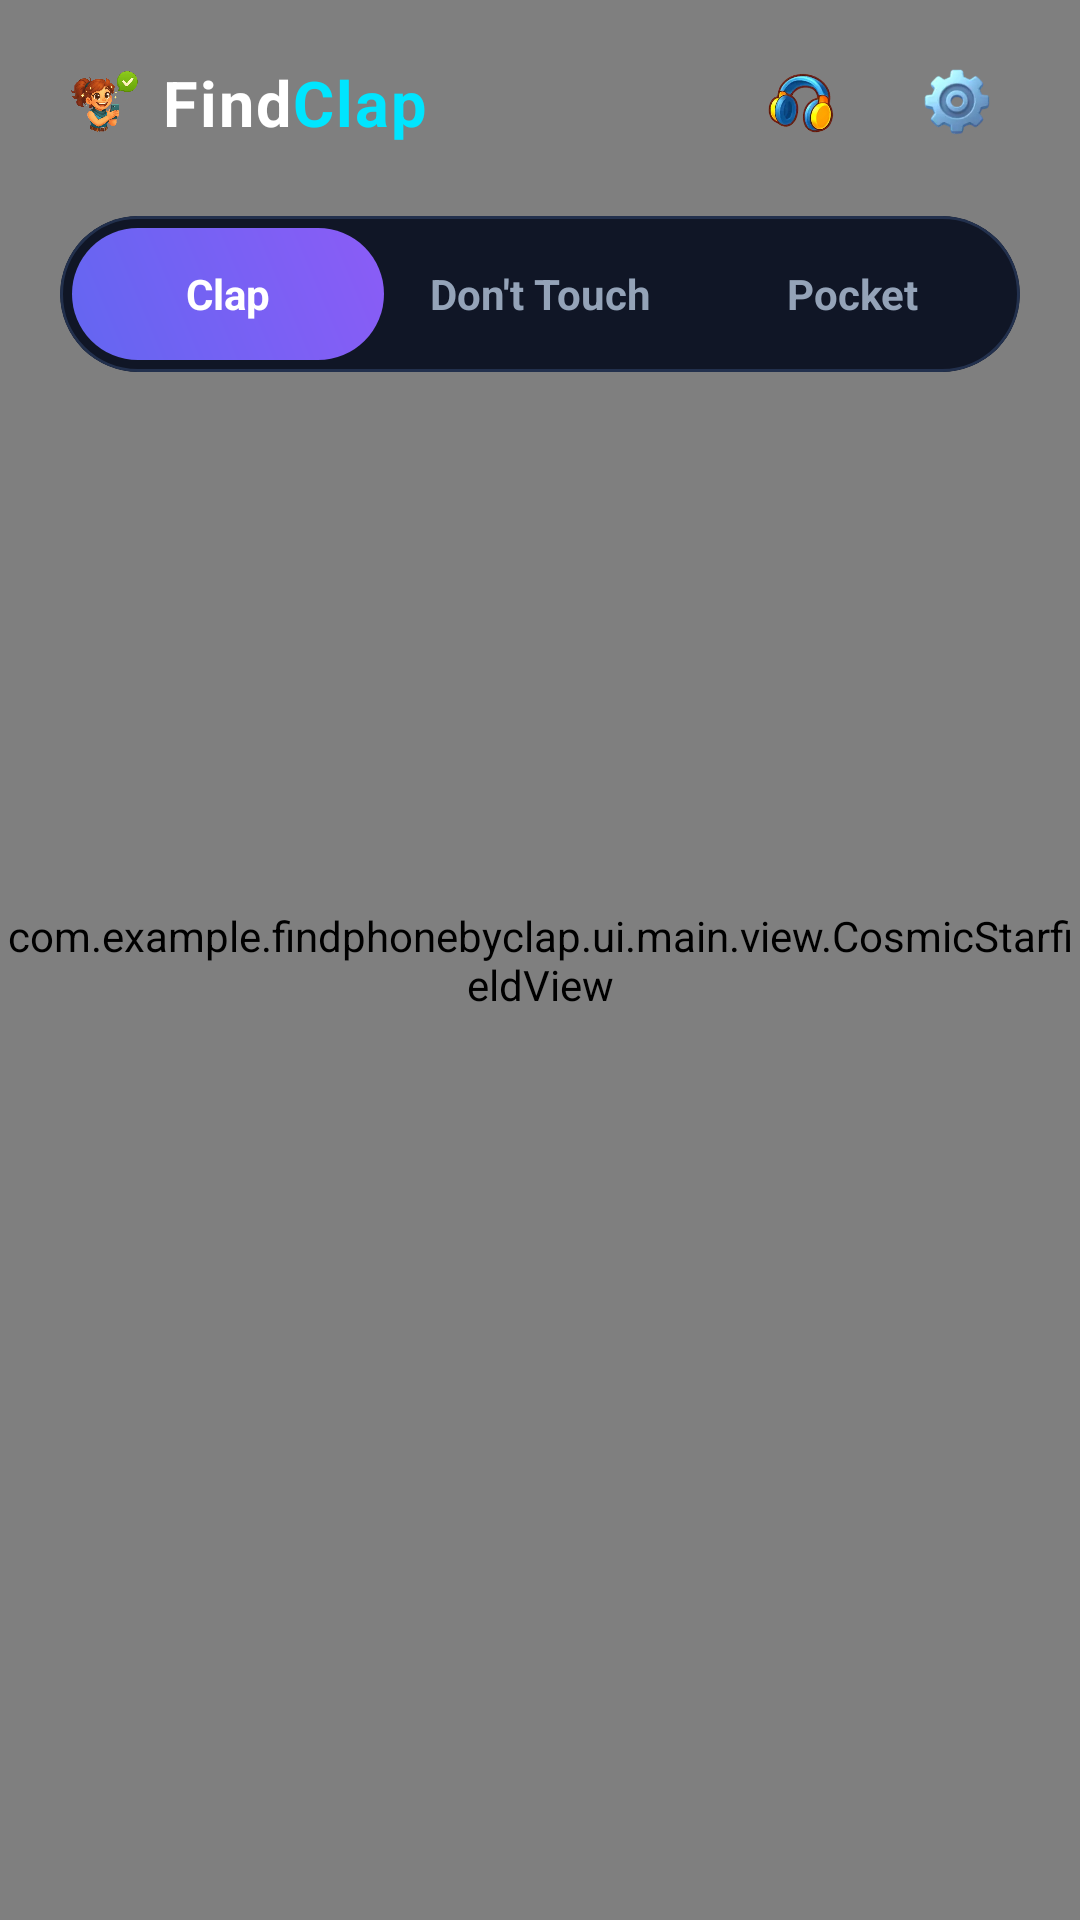

Icon click points for this 1080×1920 phone screenshot, format [x,y]:
boomclap home settings: [957,101]
boomclap settings sound: [800,103]
